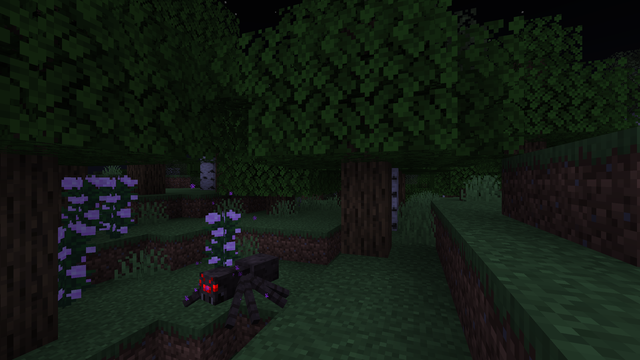araignees: (184, 249, 282, 327)
